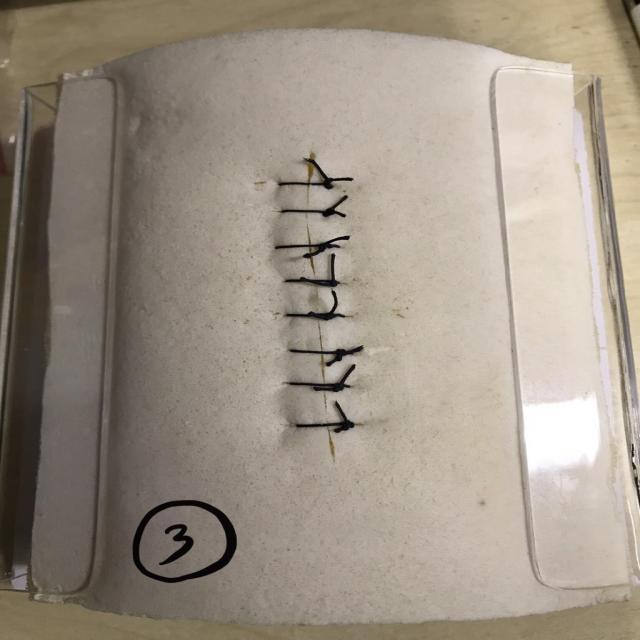knot: (319, 243, 333, 252), (335, 350, 346, 361), (341, 421, 354, 430), (323, 208, 336, 217), (324, 178, 334, 189), (332, 384, 344, 393), (323, 313, 336, 321), (329, 280, 338, 287)
leftover: (300, 154, 332, 188), (337, 363, 359, 390), (332, 399, 351, 427), (328, 194, 352, 213), (296, 276, 338, 286), (326, 287, 339, 319), (300, 244, 326, 259), (323, 351, 345, 368), (321, 235, 352, 247), (339, 343, 367, 355), (329, 252, 337, 286), (306, 310, 333, 319), (323, 177, 357, 184), (332, 423, 351, 434), (328, 209, 348, 218), (308, 386, 344, 390)
stitch: (286, 381, 358, 390), (284, 348, 359, 356), (280, 279, 345, 286), (282, 312, 354, 318), (271, 244, 341, 250), (292, 422, 357, 428), (277, 208, 337, 214), (273, 182, 333, 186)
wound: (303, 151, 338, 465)
